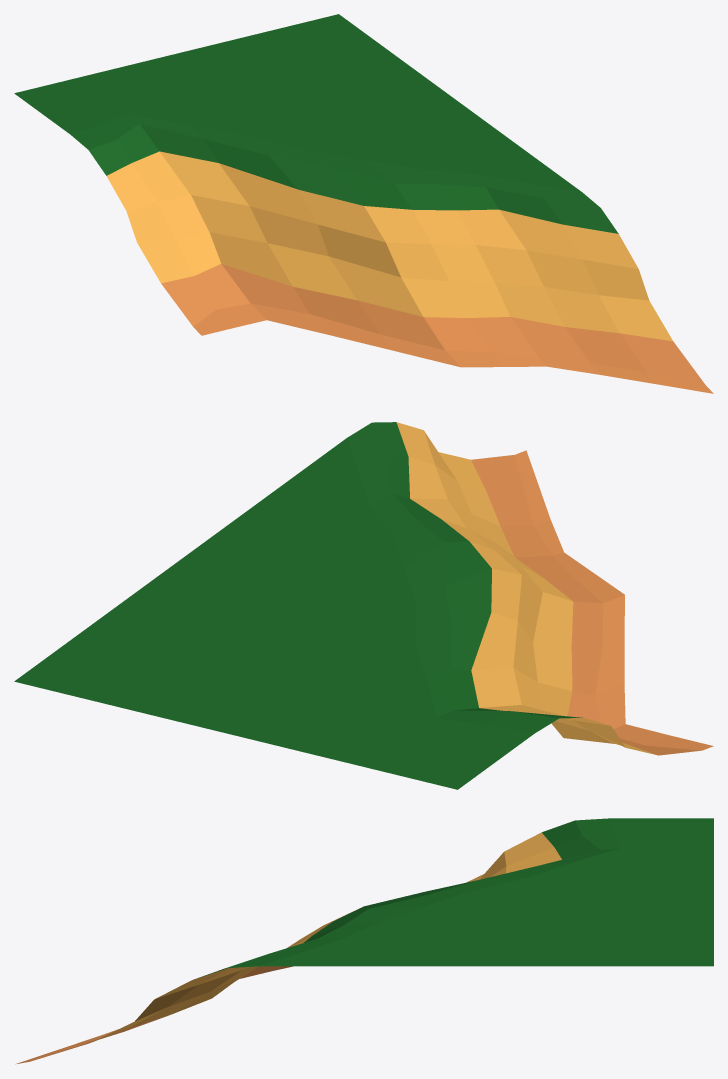
The model's file is Playa_Chanfle_ID.fbx.
The picture shows the model from 3 angles, top to bottom: view 1: azimuth 30°, elevation 25°; view 2: azimuth 150°, elevation 25°; view 3: azimuth 270°, elevation 25°; orthographic projection. The views are drawn at different scales.
Parts seen in each view (by area): view 1: Playa_Chanfle_ID; view 2: Playa_Chanfle_ID; view 3: Playa_Chanfle_ID.
Part boxes in pixels (<box>): Playa_Chanfle_ID: <box>14,14,713,393</box>; Playa_Chanfle_ID: <box>14,422,713,789</box>; Playa_Chanfle_ID: <box>15,818,713,1064</box>.
Bounding box in the file's own units: 2000 × 619 × 4000.
